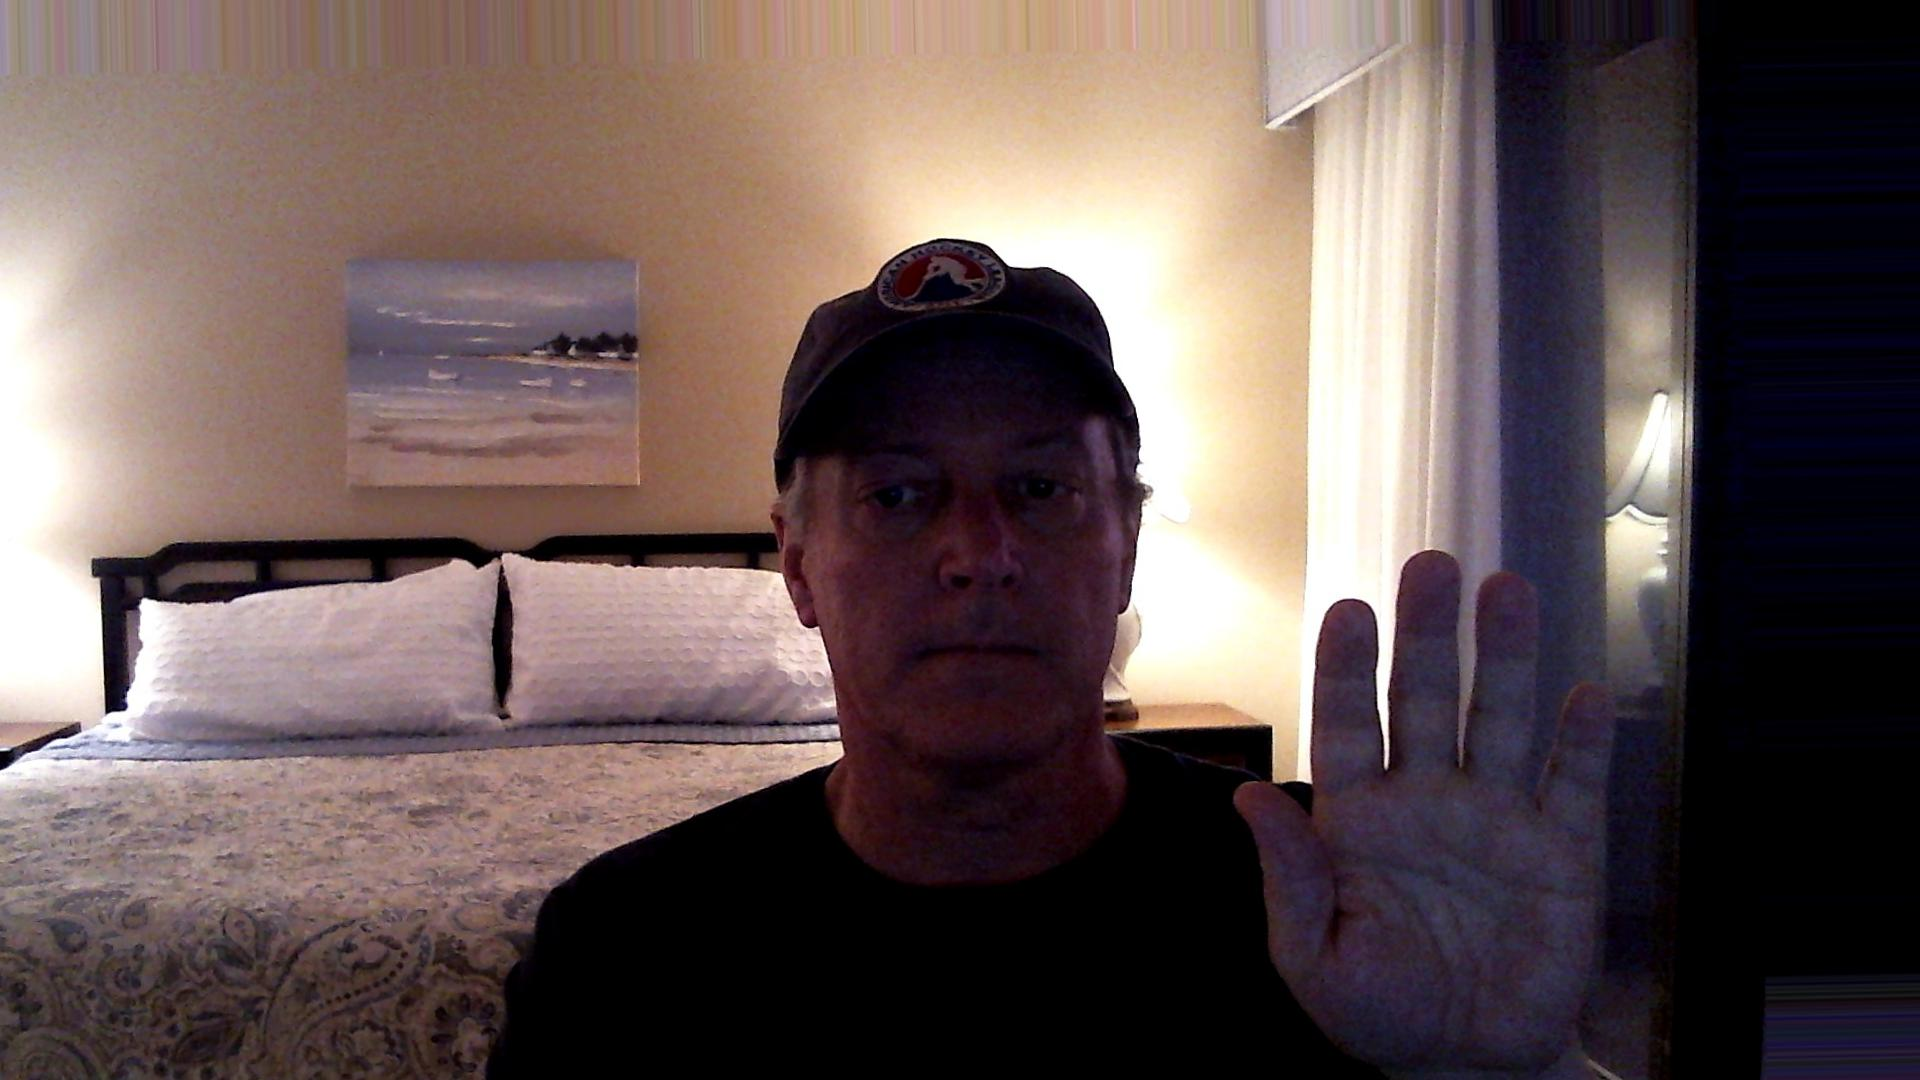Hello: (1226, 531, 1643, 1080)
